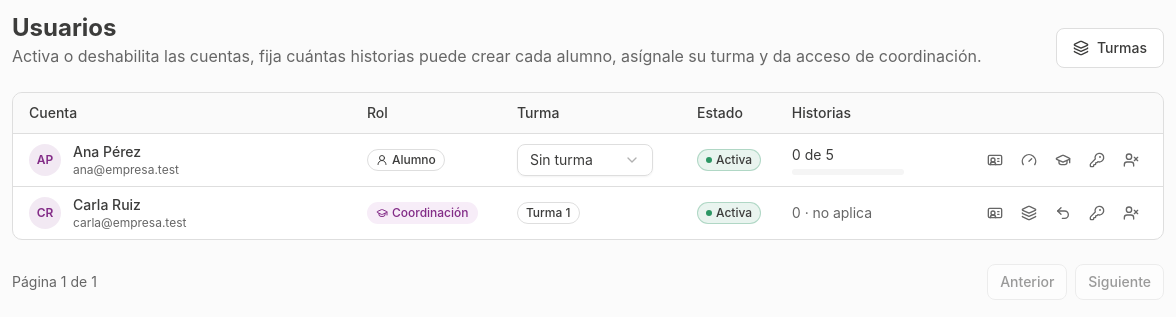
Test: users — turmas y coordinación en la pantalla Usuarios › Asignar la turma desde la lista: la fila muestra la turma elegida
Expected: the row "AP Ana Pérez ana@empresa.test Alumno Sin turma Activa 0 de 5" is shown, [13, 133, 1163, 186]
Click the dropdown named "Turma de Ana Pérez".
click(585, 160)  # box [517, 144, 653, 176]
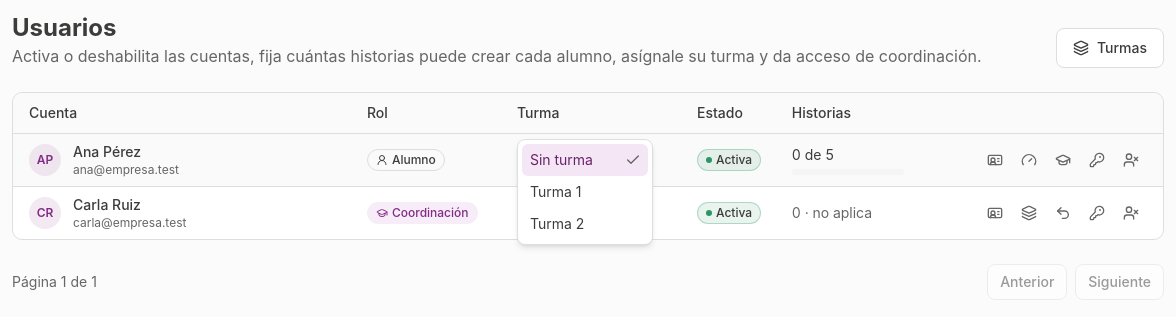
Click the option "Turma 2".
click(557, 223)  # box [530, 214, 584, 232]
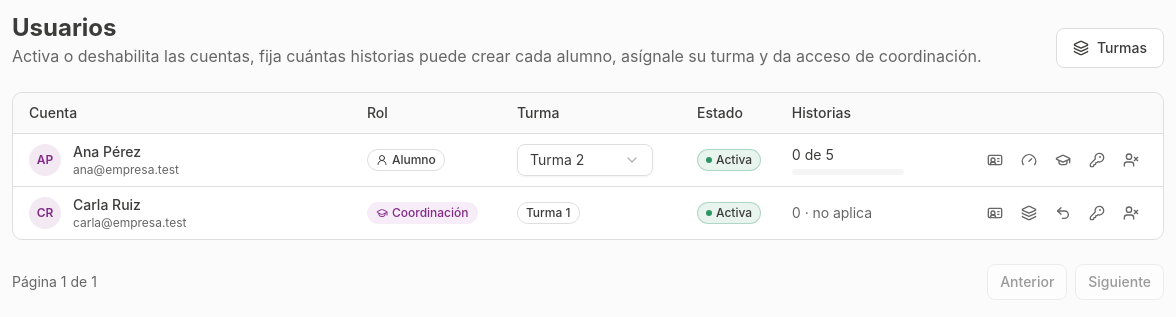
Expected: the dropdown named "Turma de Ana Pérez" reads "Turma 2", [517, 144, 653, 176]
